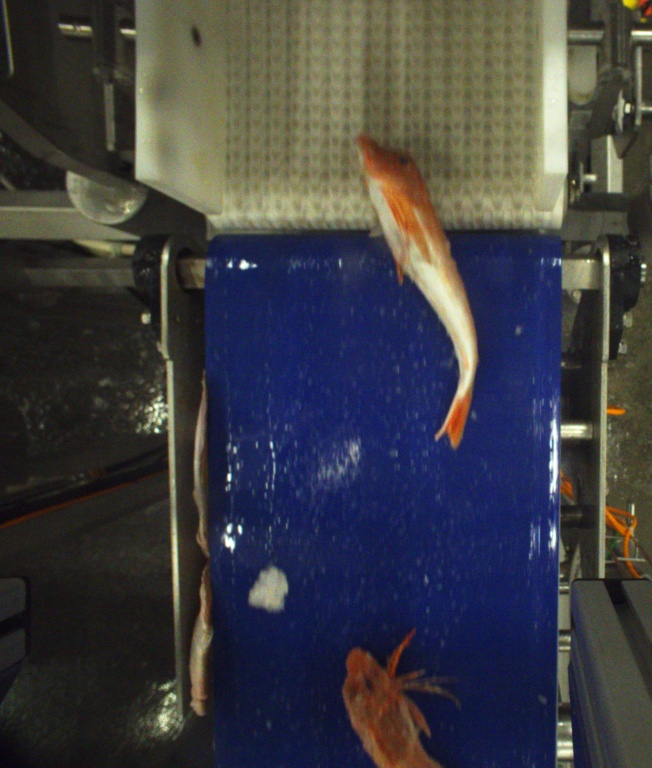GUU: (342, 629, 458, 768)
